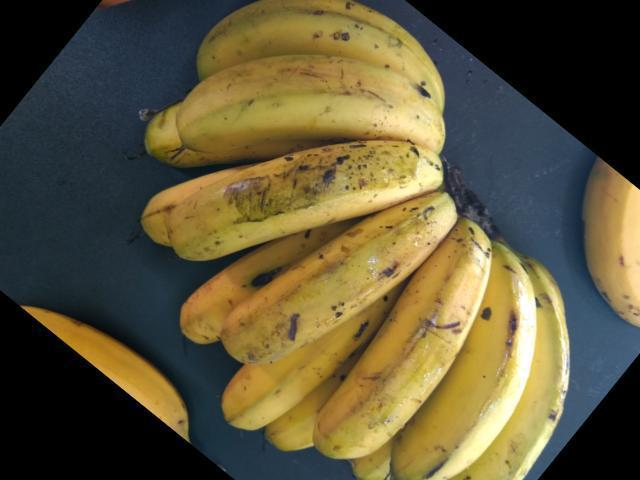ripe: (325, 220, 503, 465), (215, 197, 462, 351), (158, 135, 447, 261), (179, 60, 452, 169), (400, 252, 530, 479), (184, 0, 455, 71), (569, 138, 639, 347)
